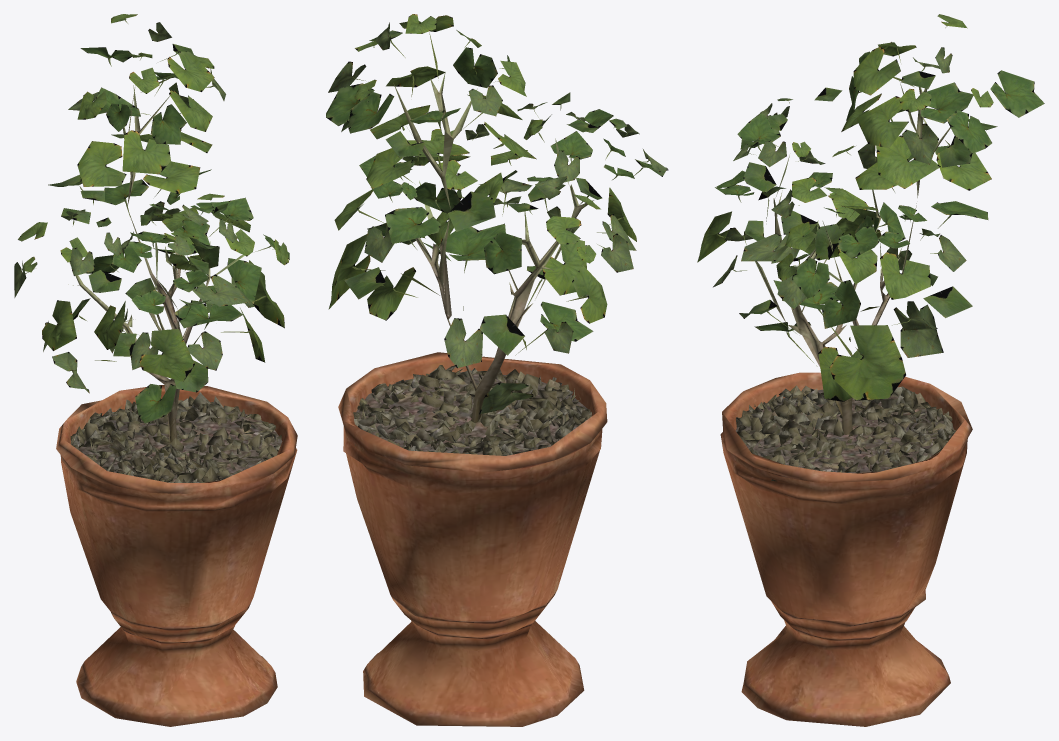
File: lib_potted_plant_aaa-5c3d8705971d.glb
3 views of the same model, side by side, from view 1: azimuth 30°, elevation 25°; view 2: azimuth 150°, elevation 25°; view 3: azimuth 270°, elevation 25° (orthographic). The views are drawn at different scales.
Parts seen in each view (by area): view 1: potted_plant_01_stem, potted_plant_01_leaves; view 2: potted_plant_01_stem, potted_plant_01_leaves; view 3: potted_plant_01_stem, potted_plant_01_leaves.
Boxes of the visible parts, x1,y1,x2,y2 form: potted_plant_01_stem: [56, 85, 297, 726]; potted_plant_01_leaves: [14, 14, 289, 423]; potted_plant_01_stem: [338, 73, 607, 726]; potted_plant_01_leaves: [326, 14, 668, 414]; potted_plant_01_stem: [720, 81, 972, 726]; potted_plant_01_leaves: [697, 14, 1044, 401].
Bounding box in the file's own units: 0.5866 × 1.33 × 0.6336.
2 materials, 2 textured.
